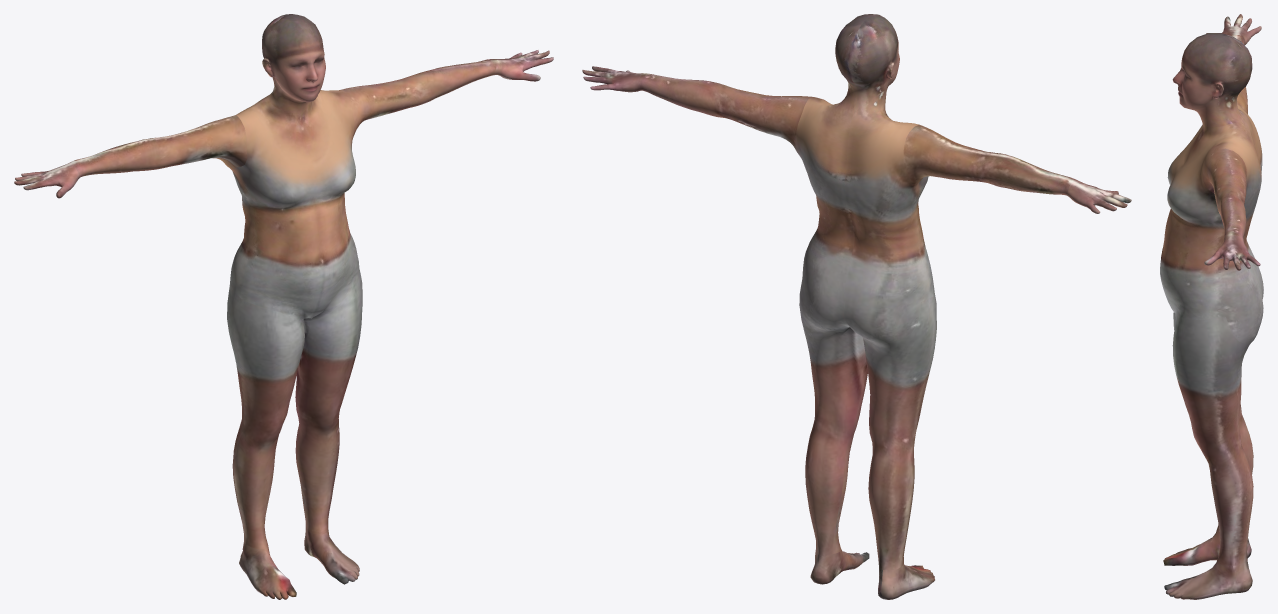
Rendered from smpl.obj.
3 views of the same model, side by side, from view 1: azimuth 30°, elevation 25°; view 2: azimuth 150°, elevation 25°; view 3: azimuth 270°, elevation 25° (orthographic). The views are drawn at different scales.
Parts seen in each view (by area): view 1: body1; view 2: body1; view 3: body1.
Boxes of the visible parts, x1,y1,x2,y2 form: body1: (14, 14, 553, 599); body1: (582, 14, 1131, 599); body1: (1160, 14, 1263, 599).
Size of the model in its own units: 167 by 166 by 28.7.
1 material, 1 textured.
